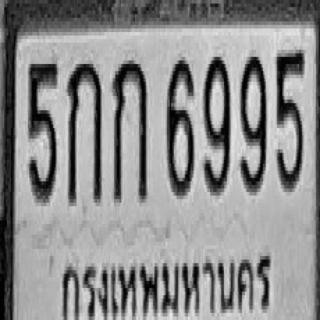A01: (112, 57, 147, 203), (67, 60, 102, 203)
N05: (28, 59, 57, 201), (276, 48, 304, 190)
N06: (166, 57, 194, 196)
N09: (203, 53, 230, 192), (239, 53, 266, 192)
P04: (57, 246, 286, 320)
